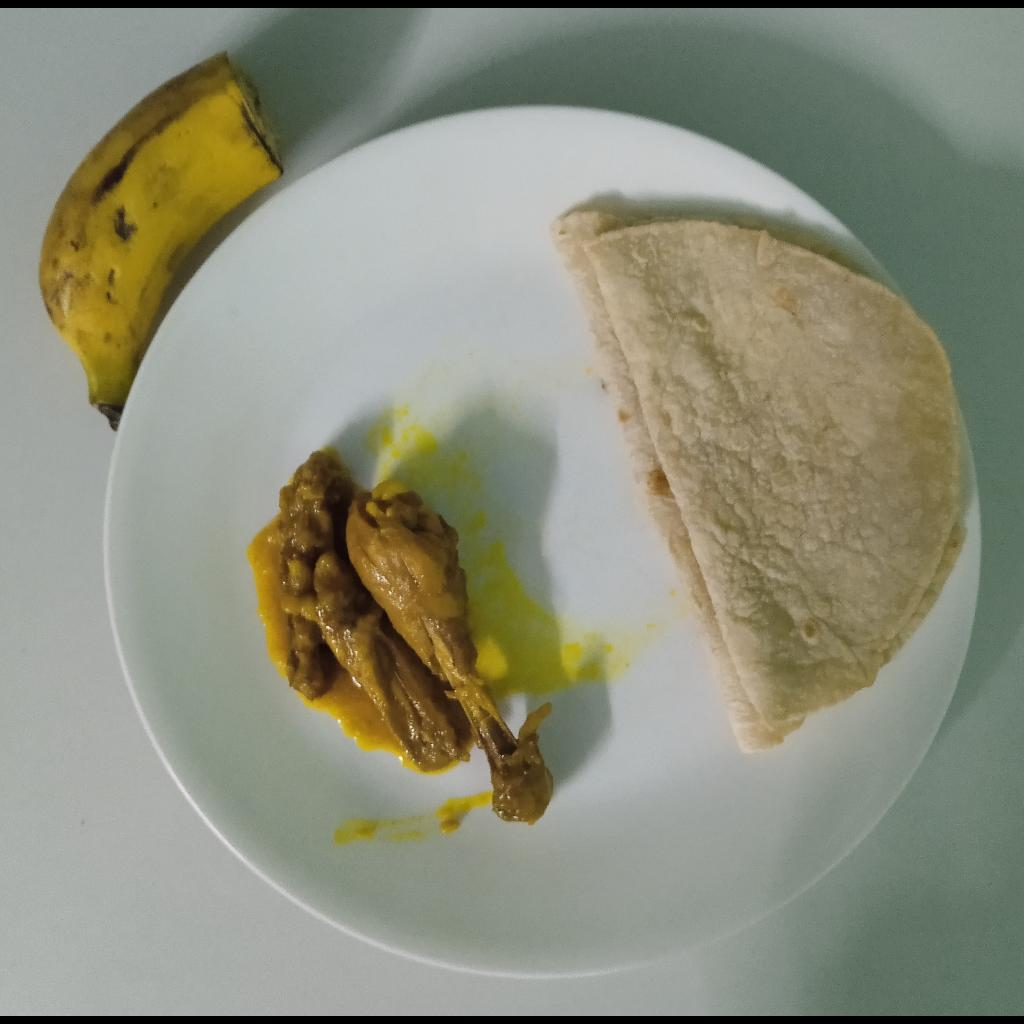banana: (34, 50, 288, 423)
chicken: (250, 449, 554, 830)
ruti: (556, 208, 970, 763)
